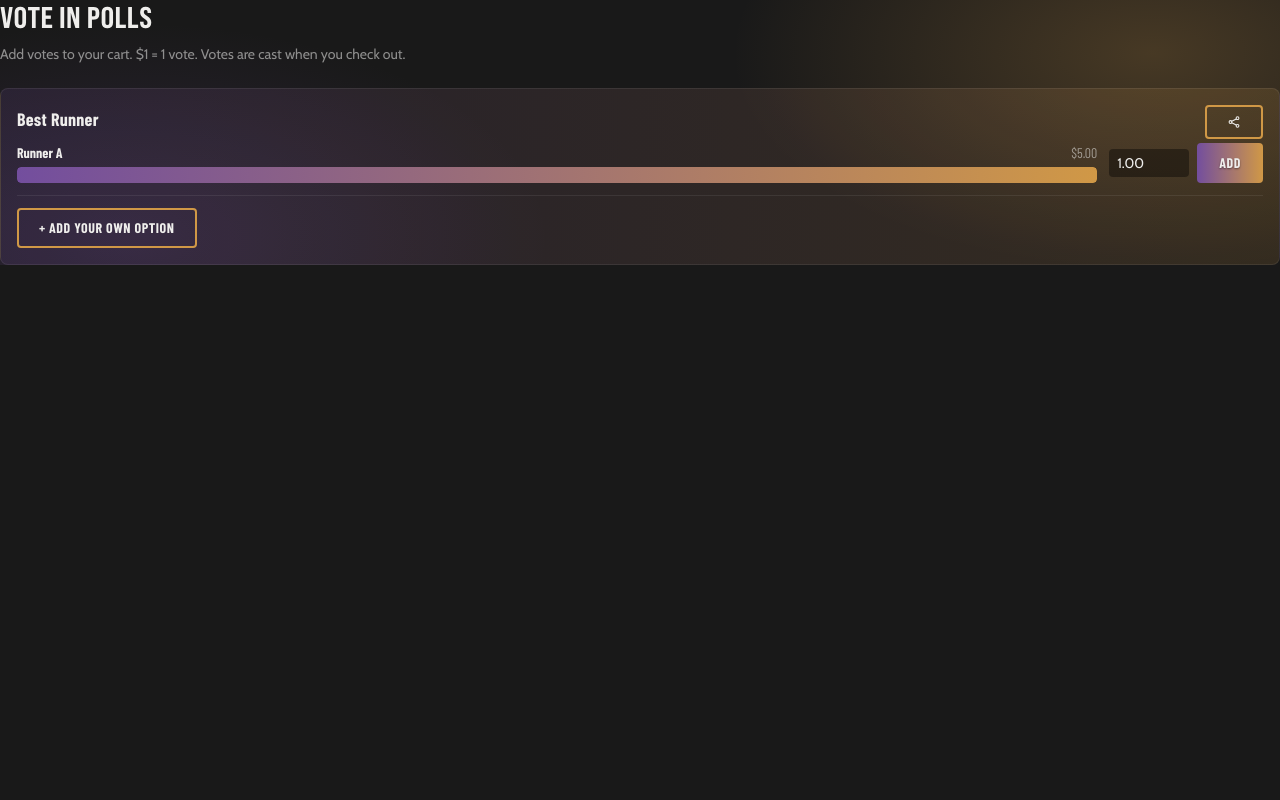
PollList › opens the write-in modal for polls that allow custom entries
Click the button "+ add your own option" at point(107, 228), box x1=17 y1=208 x2=196 y2=248
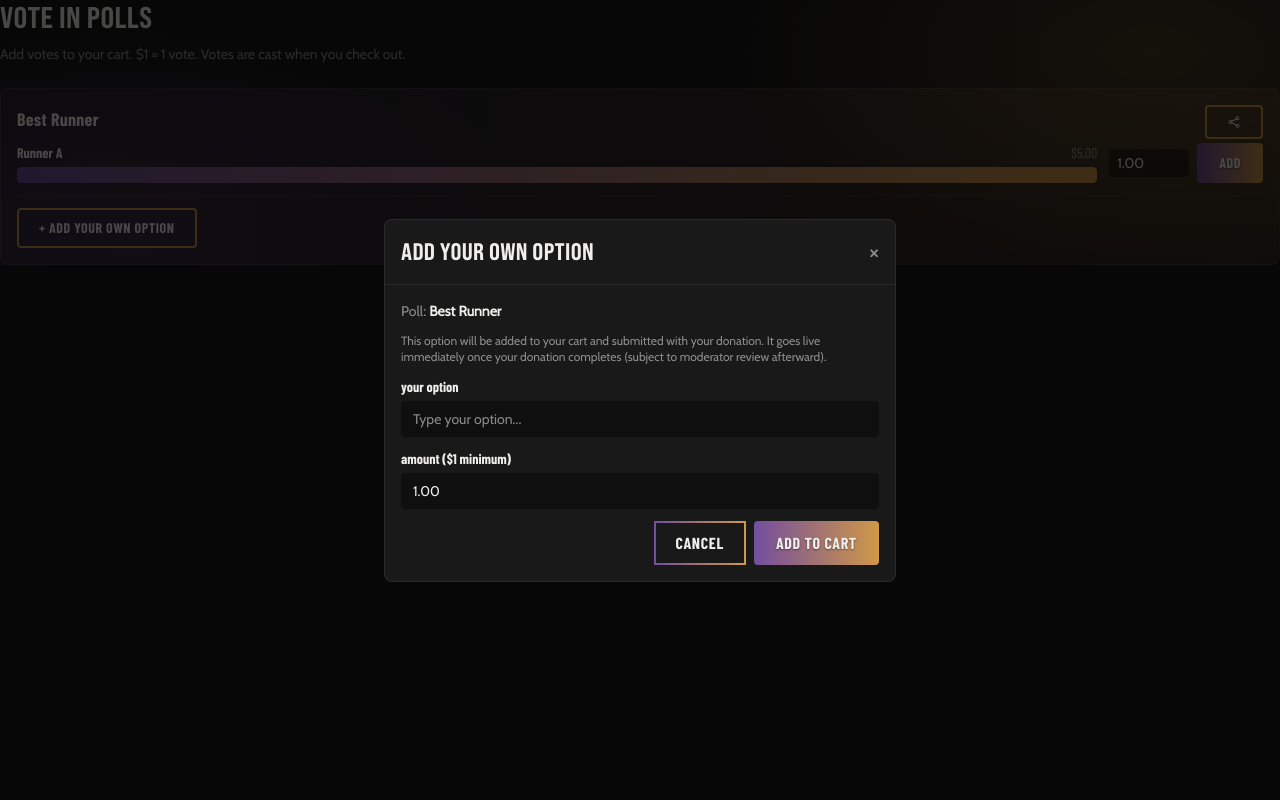
Now the heading "add your own option" is shown, box x1=401 y1=236 x2=594 y2=268
